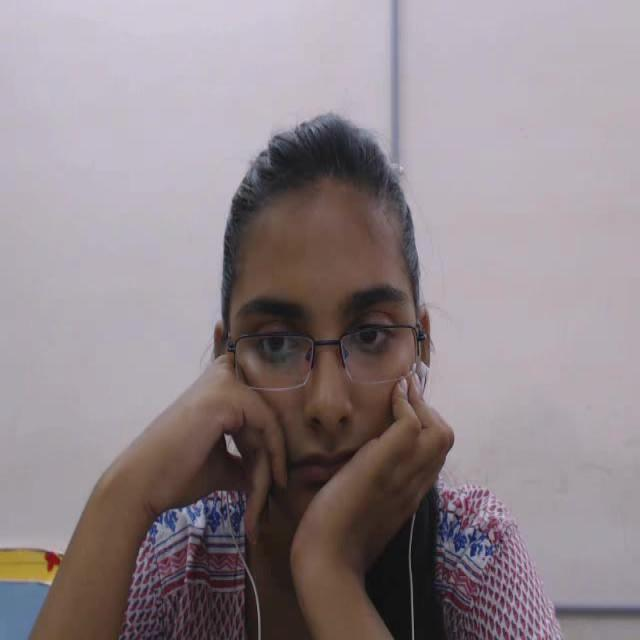Bored: (207, 97, 496, 539)
